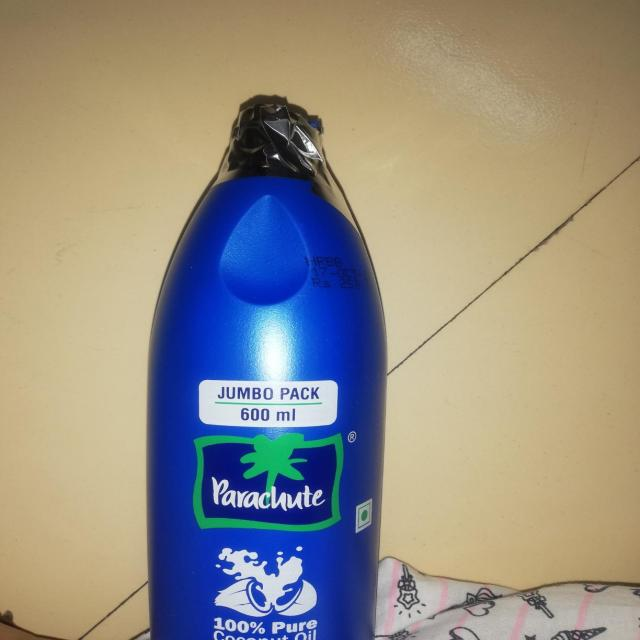parachute_oil: (150, 82, 385, 640)
